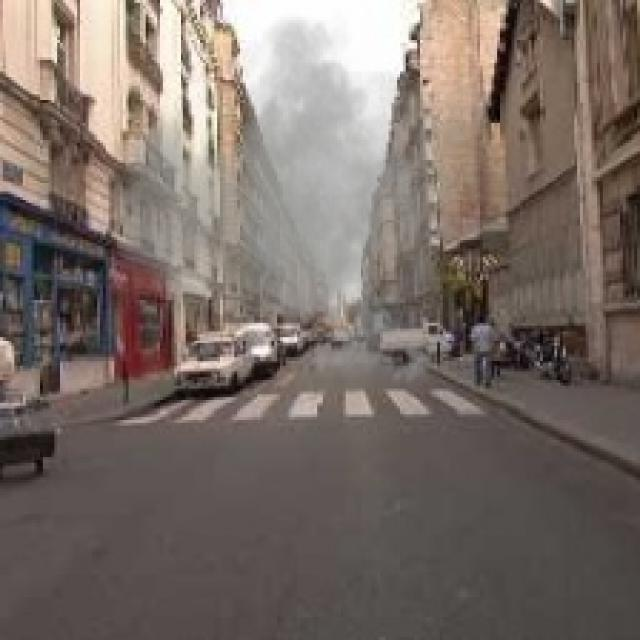Smoke: (108, 0, 483, 397)
